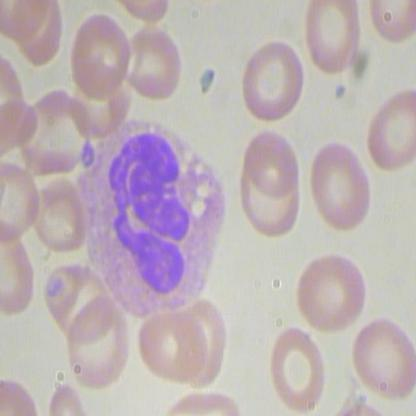RBC: (290, 241, 370, 335), (17, 81, 90, 181), (62, 299, 131, 394), (263, 322, 332, 415), (240, 35, 306, 132), (307, 135, 373, 232), (136, 305, 214, 384), (69, 9, 132, 103), (347, 315, 415, 400), (119, 23, 184, 104), (27, 174, 92, 255), (363, 84, 415, 177), (180, 297, 229, 393), (305, 1, 365, 77), (243, 124, 302, 195)
WBC: (76, 120, 235, 327)
